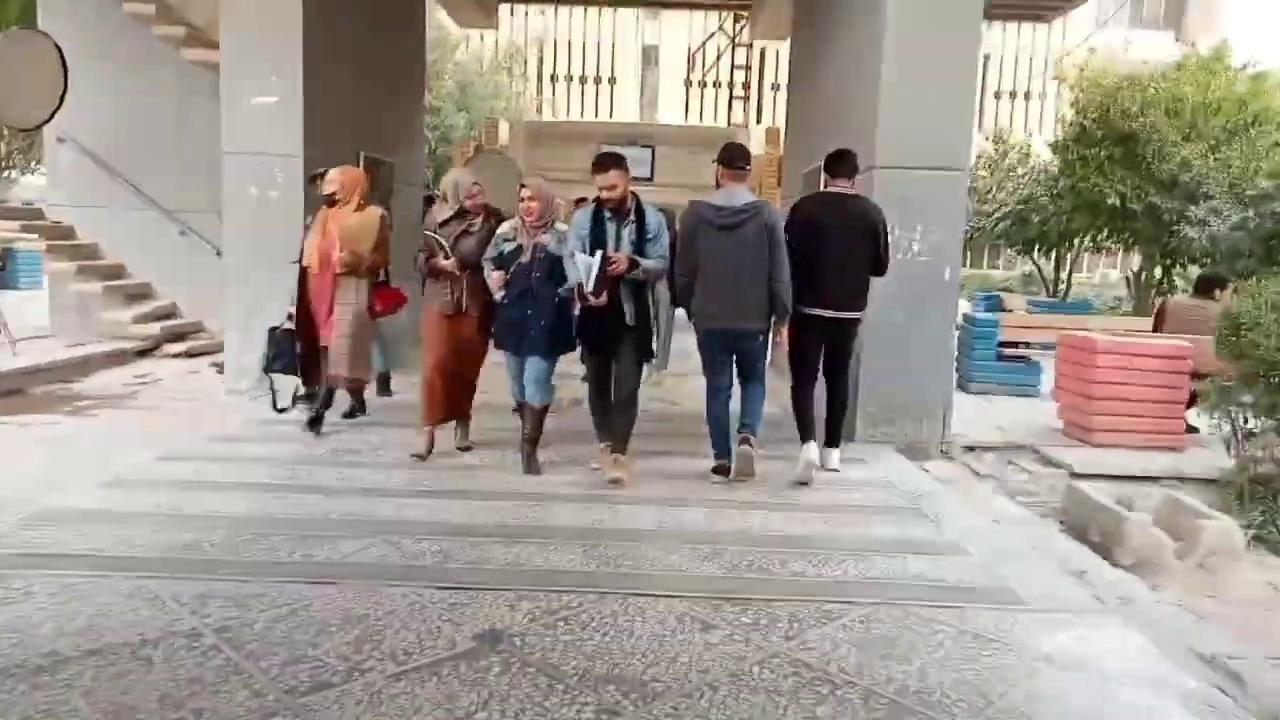person: (673, 141, 793, 480), (560, 151, 671, 485), (782, 147, 889, 485), (480, 174, 577, 475), (409, 178, 507, 461), (297, 163, 392, 434), (1151, 266, 1235, 411)
tree: (964, 34, 1278, 552), (1042, 36, 1278, 315), (422, 4, 529, 198), (964, 124, 1080, 300)
